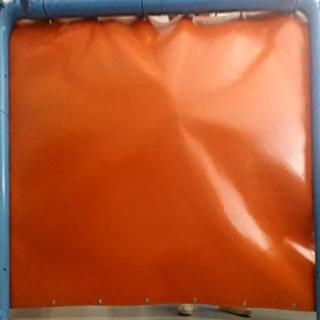Hit-hRxx: (170, 104, 183, 119)
